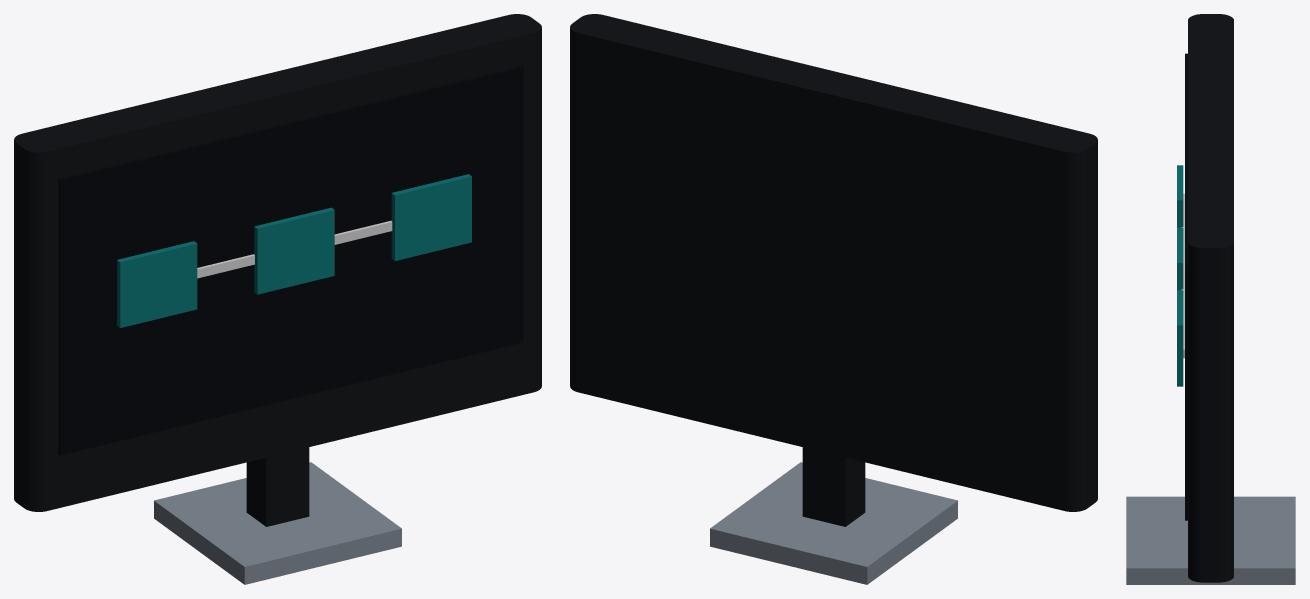
File: software_flow.glb
3 renders of one model, left to right at view 1: azimuth 30°, elevation 25°; view 2: azimuth 150°, elevation 25°; view 3: azimuth 270°, elevation 25°, orthographic. The views are drawn at different scales.
Visible parts, largest first — view 1: software; view 2: software; view 3: software.
Part boxes in pixels (<box>): software: <box>14,14,541,584</box>; software: <box>570,14,1097,584</box>; software: <box>1126,14,1295,584</box>.
Size of the model in its own units: 0.18 by 0.15 by 0.055.
